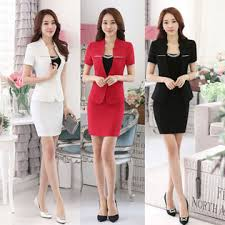F_tailored skirt: (149, 88, 193, 141)
